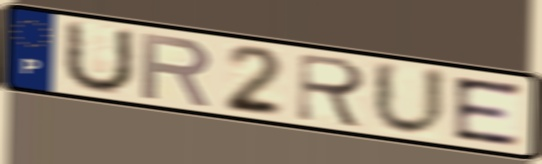2: (222, 45, 289, 119)
E: (450, 74, 524, 148)
R: (293, 50, 370, 131), (139, 29, 216, 109)
U: (370, 57, 450, 140), (59, 18, 137, 96)
